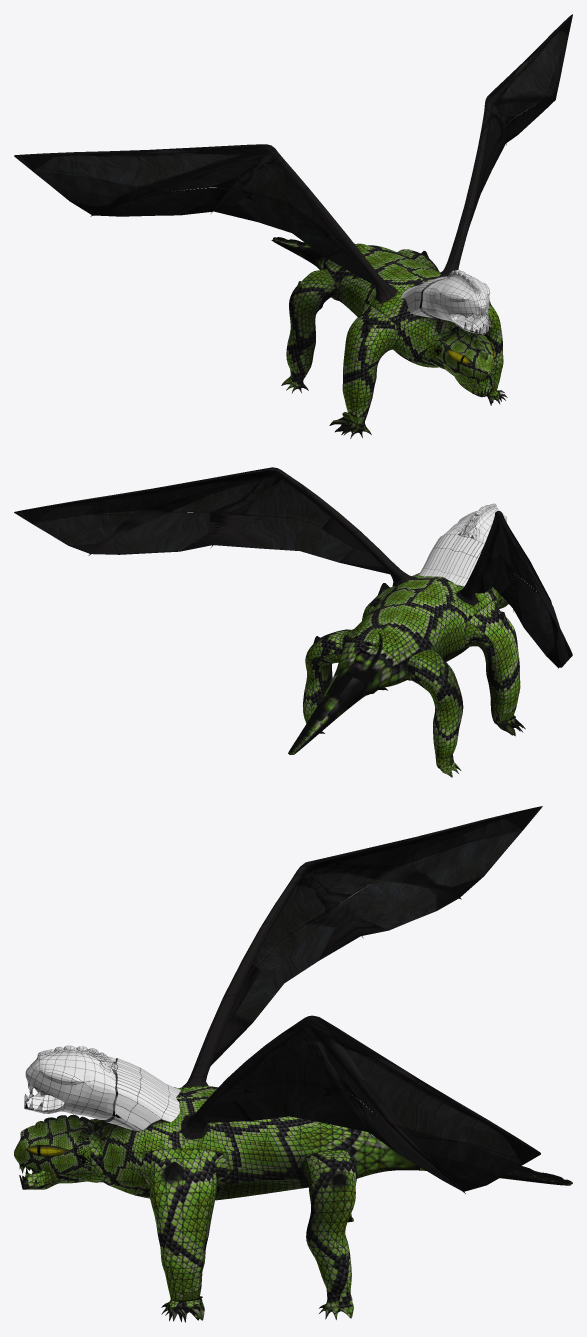
Rendered from monster_000023.obj.
3 renders of one model, top to bottom at view 1: azimuth 30°, elevation 25°; view 2: azimuth 150°, elevation 25°; view 3: azimuth 270°, elevation 25°, orthographic. The views are drawn at different scales.
Parts seen in each view (by area): view 1: body_Cube, secondHead_Cube.002; view 2: body_Cube, secondHead_Cube.002; view 3: body_Cube, secondHead_Cube.002.
Part boxes in pixels (x1=…): body_Cube: x1=14, y1=14, x2=572, y2=438; secondHead_Cube.002: x1=401, y1=269, x2=491, y2=334; body_Cube: x1=14, y1=467, x2=572, y2=777; secondHead_Cube.002: x1=418, y1=503, x2=506, y2=586; body_Cube: x1=14, y1=806, x2=572, y2=1322; secondHead_Cube.002: x1=24, y1=1045, x2=180, y2=1130.
Bounding box in the file's own units: 8.27 × 3.71 × 5.51.
